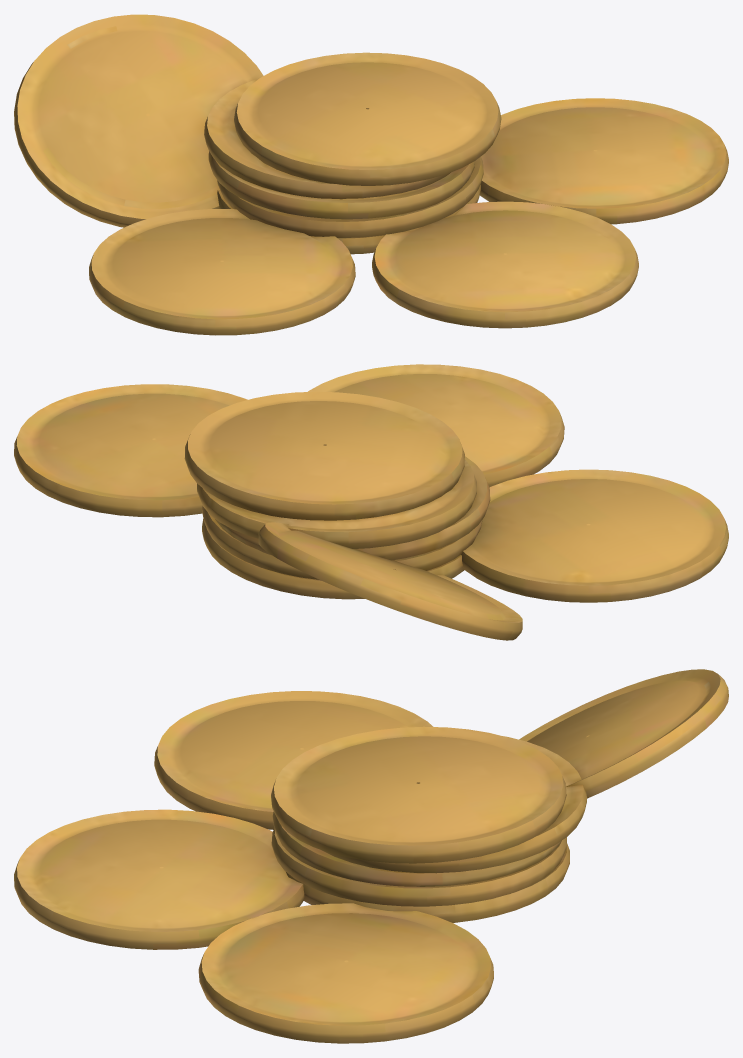
The model's file is tremissis.glb.
3 renders of one model, top to bottom at view 1: azimuth 30°, elevation 25°; view 2: azimuth 150°, elevation 25°; view 3: azimuth 270°, elevation 25°, orthographic. The views are drawn at different scales.
Parts seen in each view (by area): view 1: tremissis; view 2: tremissis; view 3: tremissis.
Boxes of the visible parts, x1,y1,x2,y2 form: tremissis: (14,14,728,335); tremissis: (14,364,728,640); tremissis: (14,669,728,1043).
Bounding box in the file's own units: 0.0405 × 0.00752 × 0.0363.
Materials: 1 (1 with a texture image).
